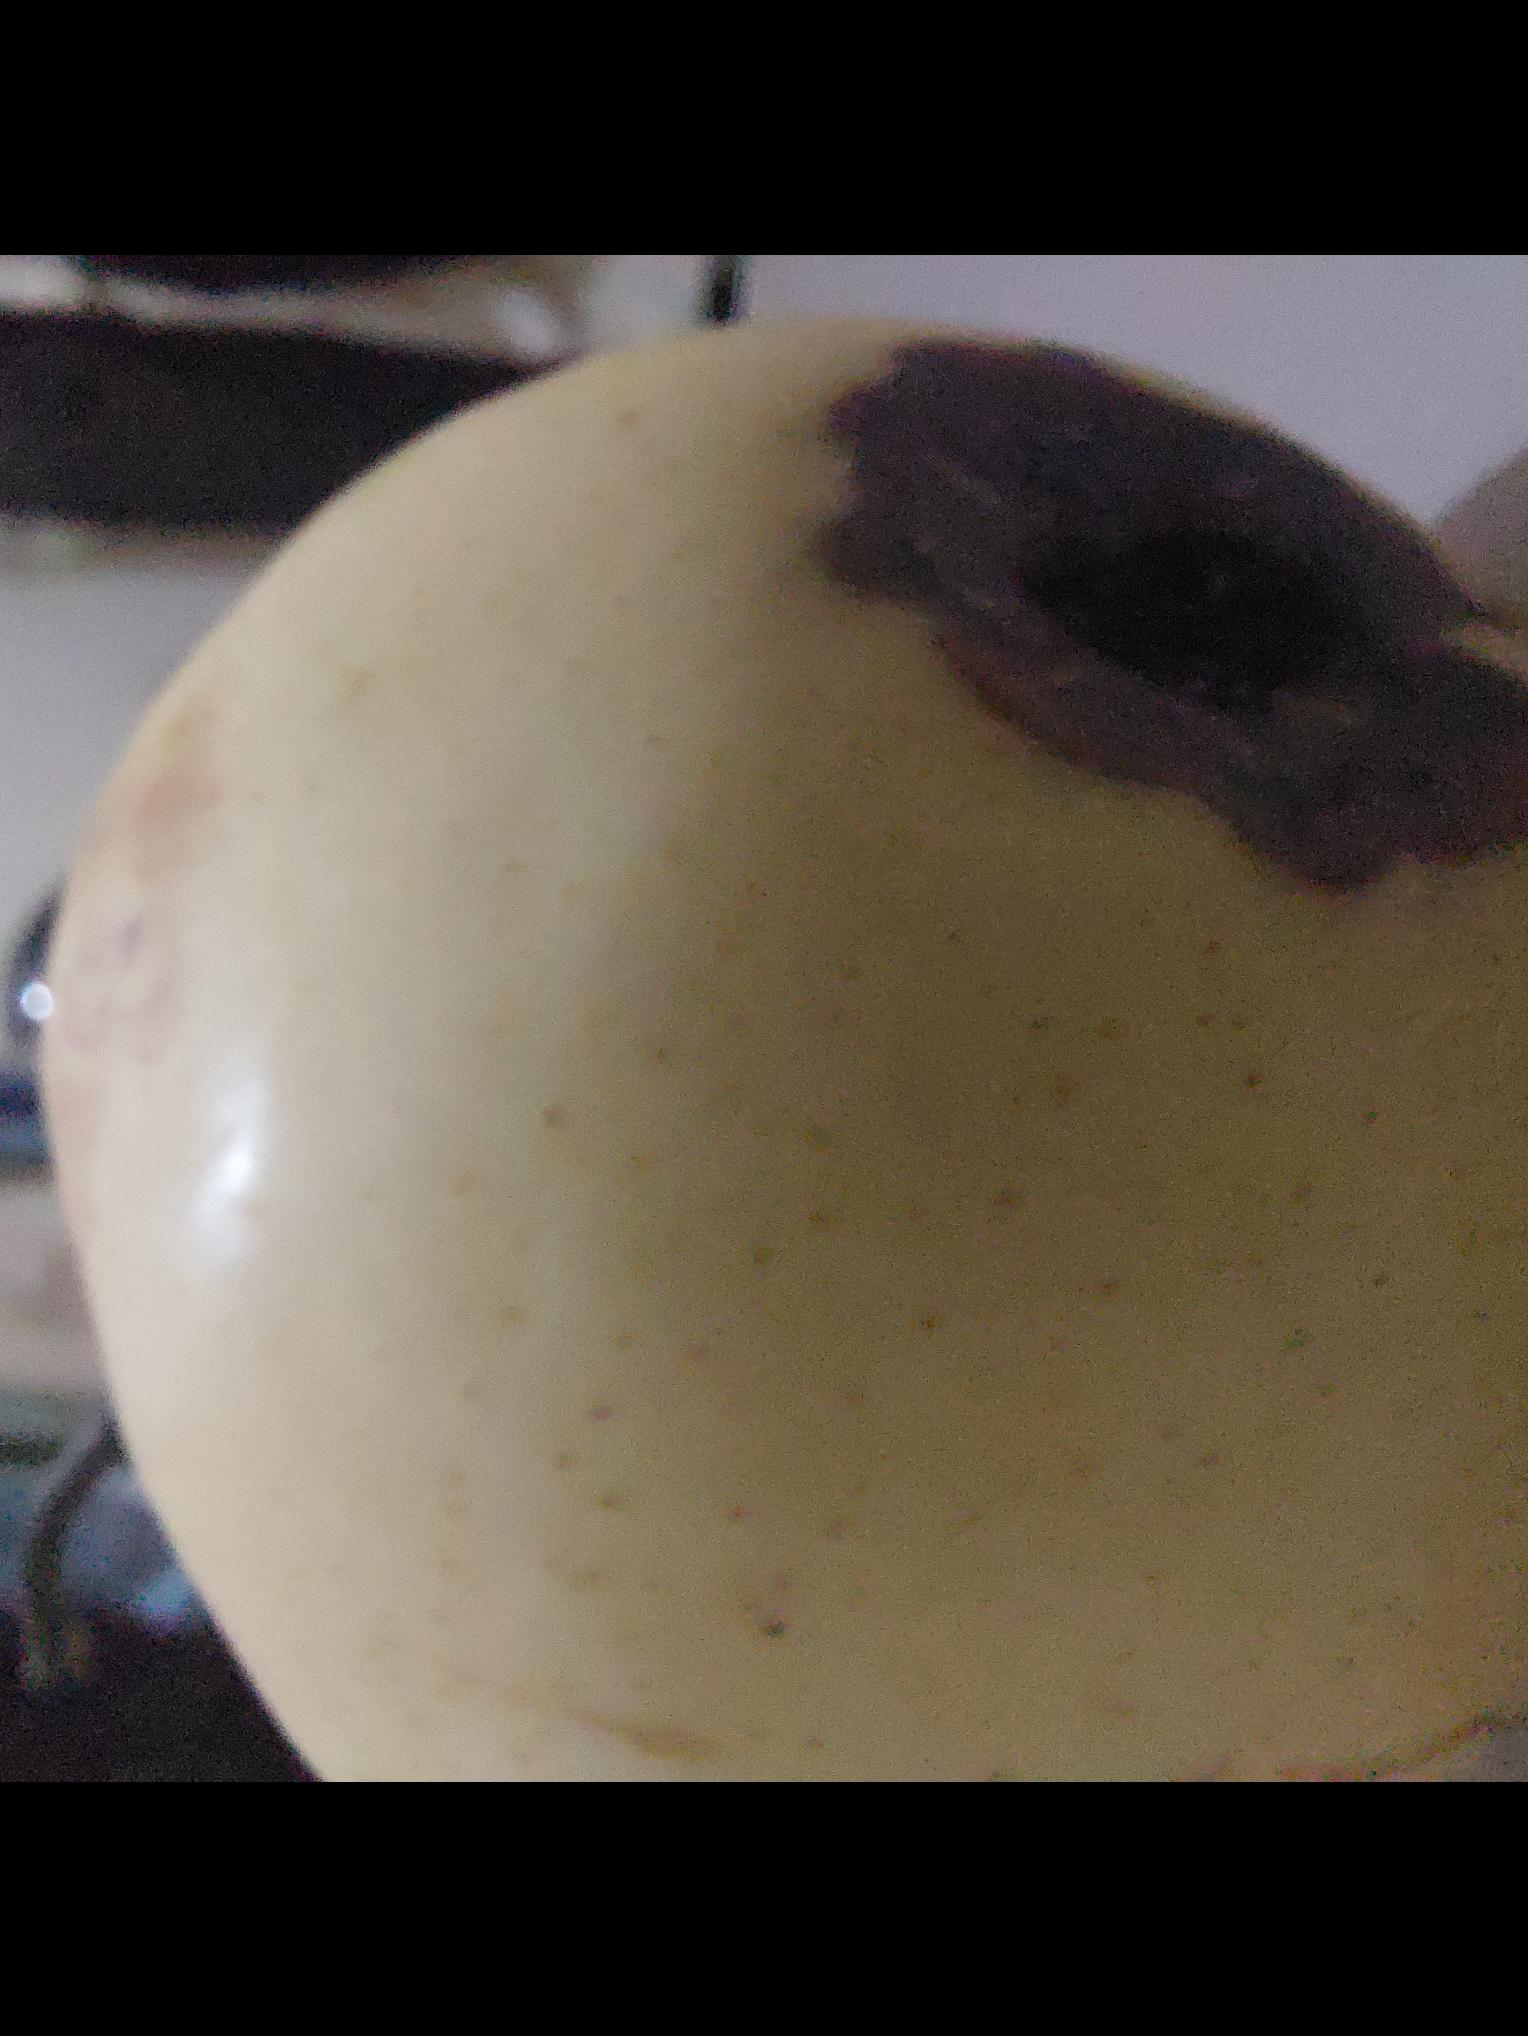Bad Pear: (30, 295, 1528, 1781)
